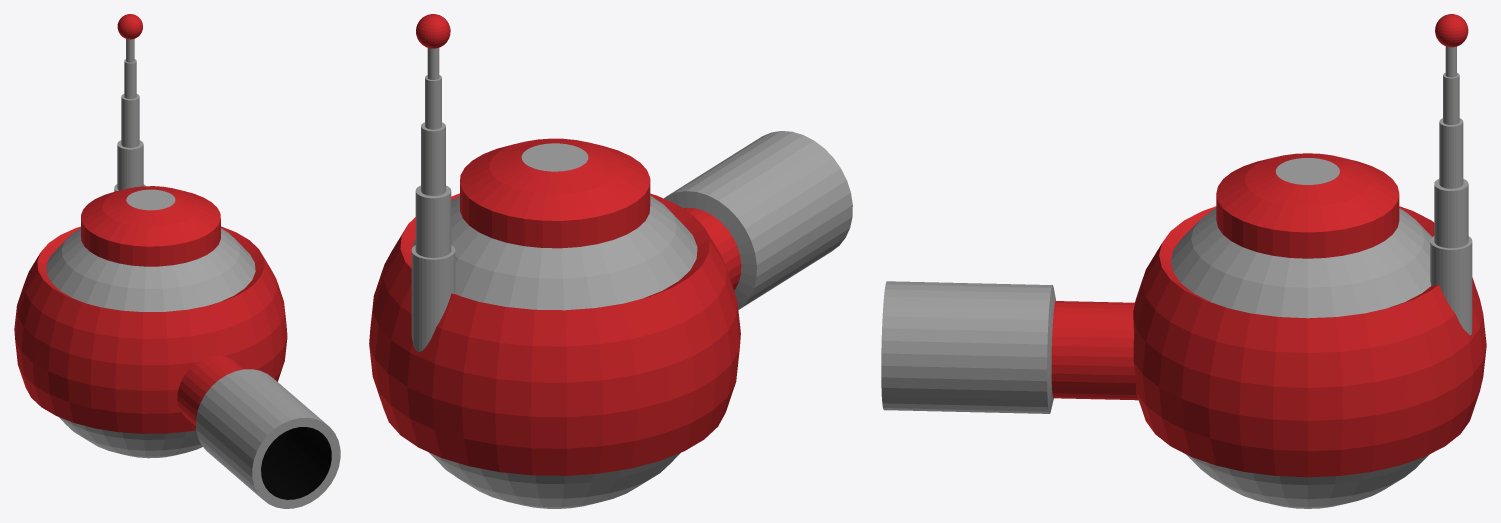
File: turret_gun.obj
3 views of the same model, side by side, from view 1: azimuth 30°, elevation 25°; view 2: azimuth 150°, elevation 25°; view 3: azimuth 270°, elevation 25° (orthographic). The views are drawn at different scales.
Parts seen in each view (by area): view 1: Sphere; view 2: Sphere; view 3: Sphere.
Boxes of the visible parts, <box> form: Sphere: <box>14,14,340,508</box>; Sphere: <box>369,14,852,508</box>; Sphere: <box>881,14,1486,508</box>.
Bounding box in the file's own units: 1.95 × 3.01 × 3.31.
